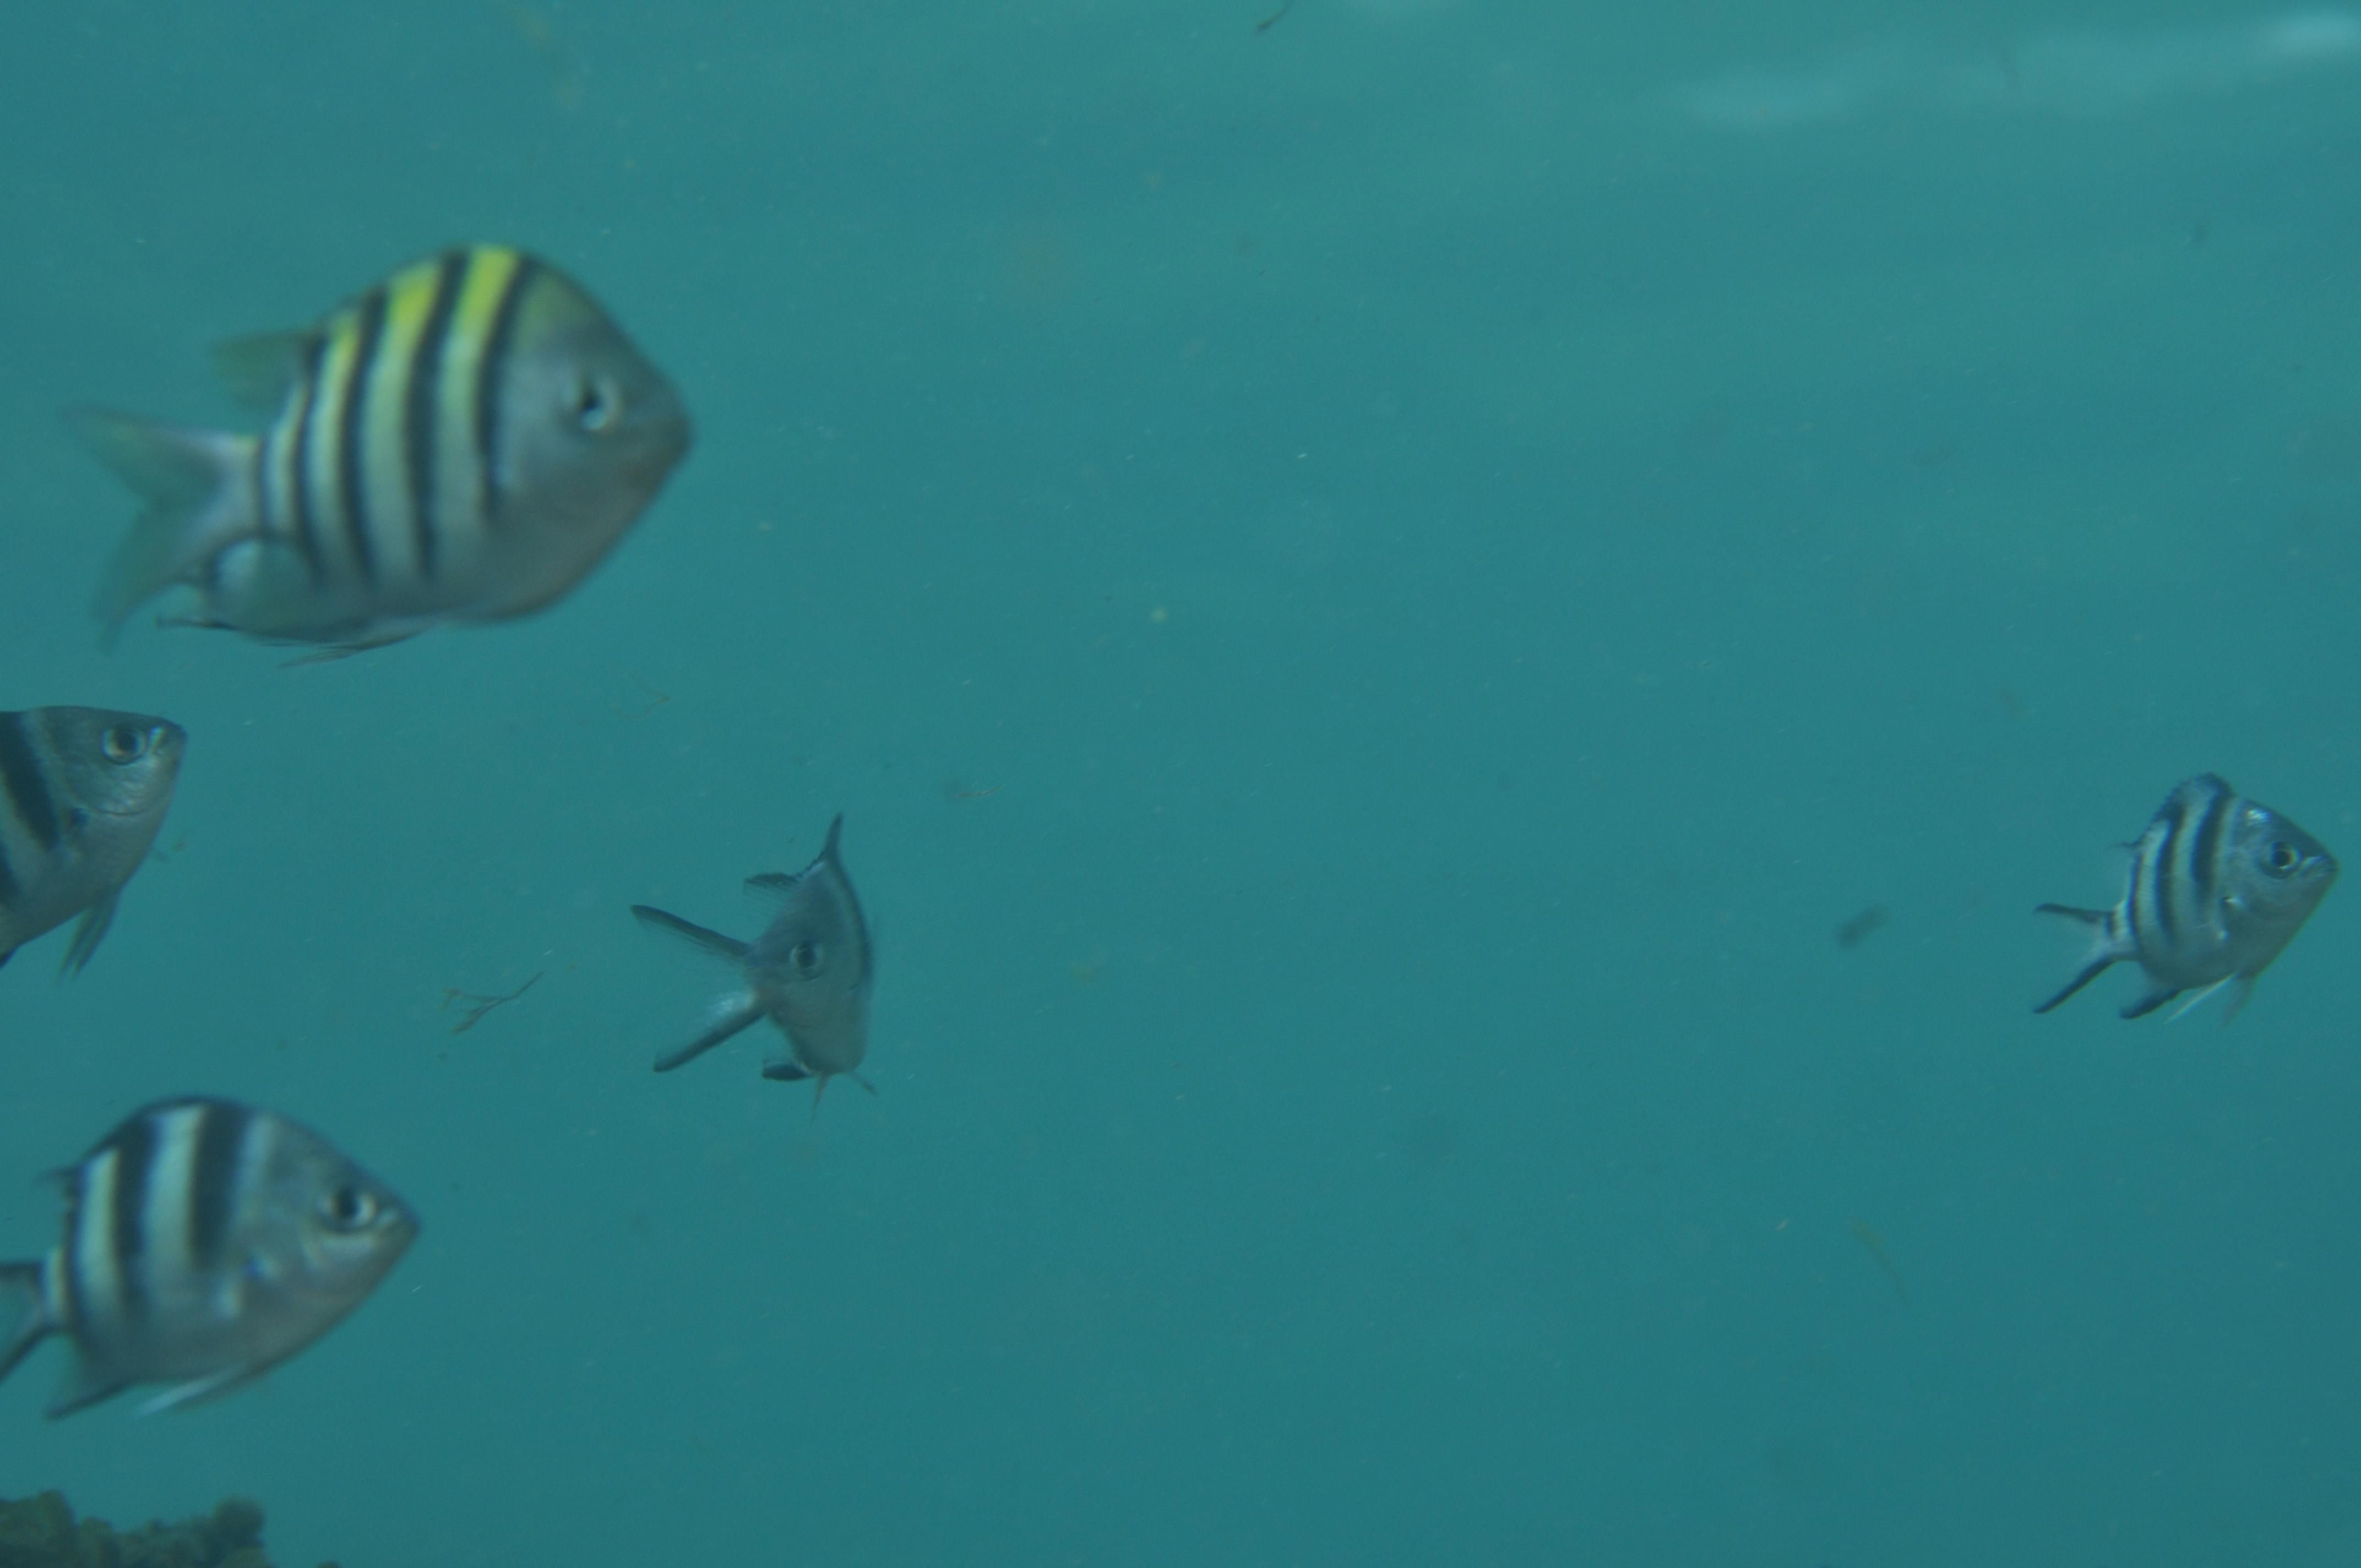Abudefduf vaigiensis: (44, 243, 742, 716), (14, 1050, 457, 1494), (1916, 763, 2361, 1078), (581, 815, 952, 1132)
